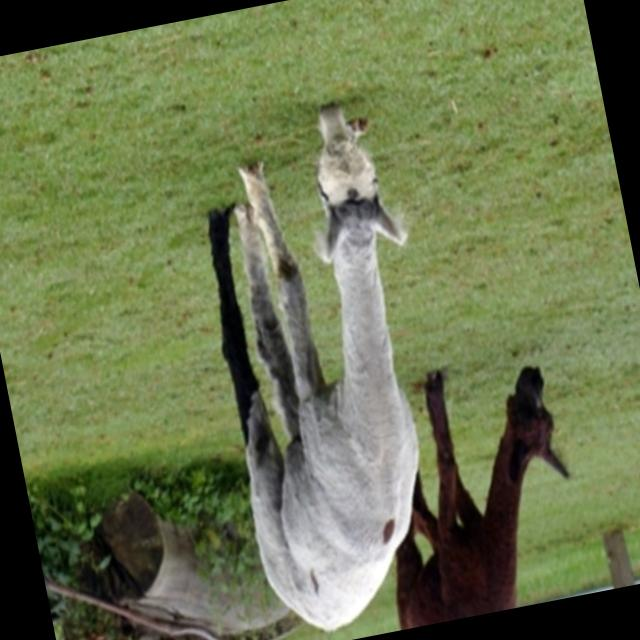alpaca: (178, 96, 477, 640), (357, 350, 595, 630)
